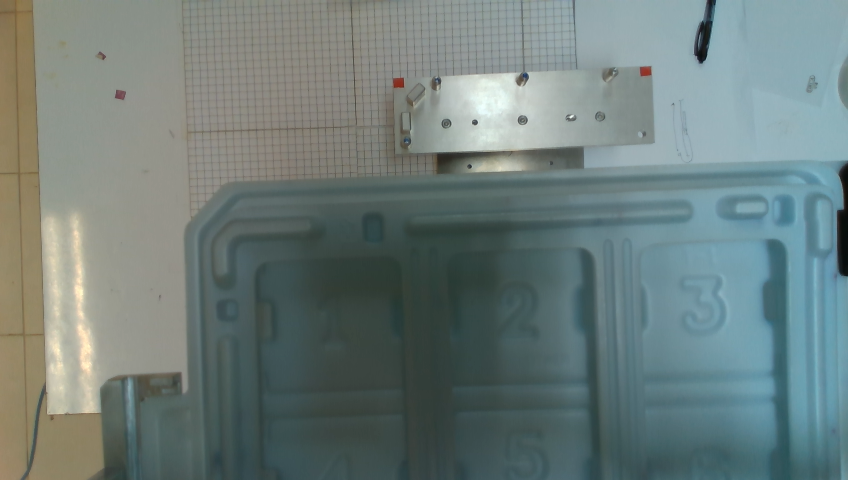red: (393, 78, 404, 88), (640, 67, 652, 76)
